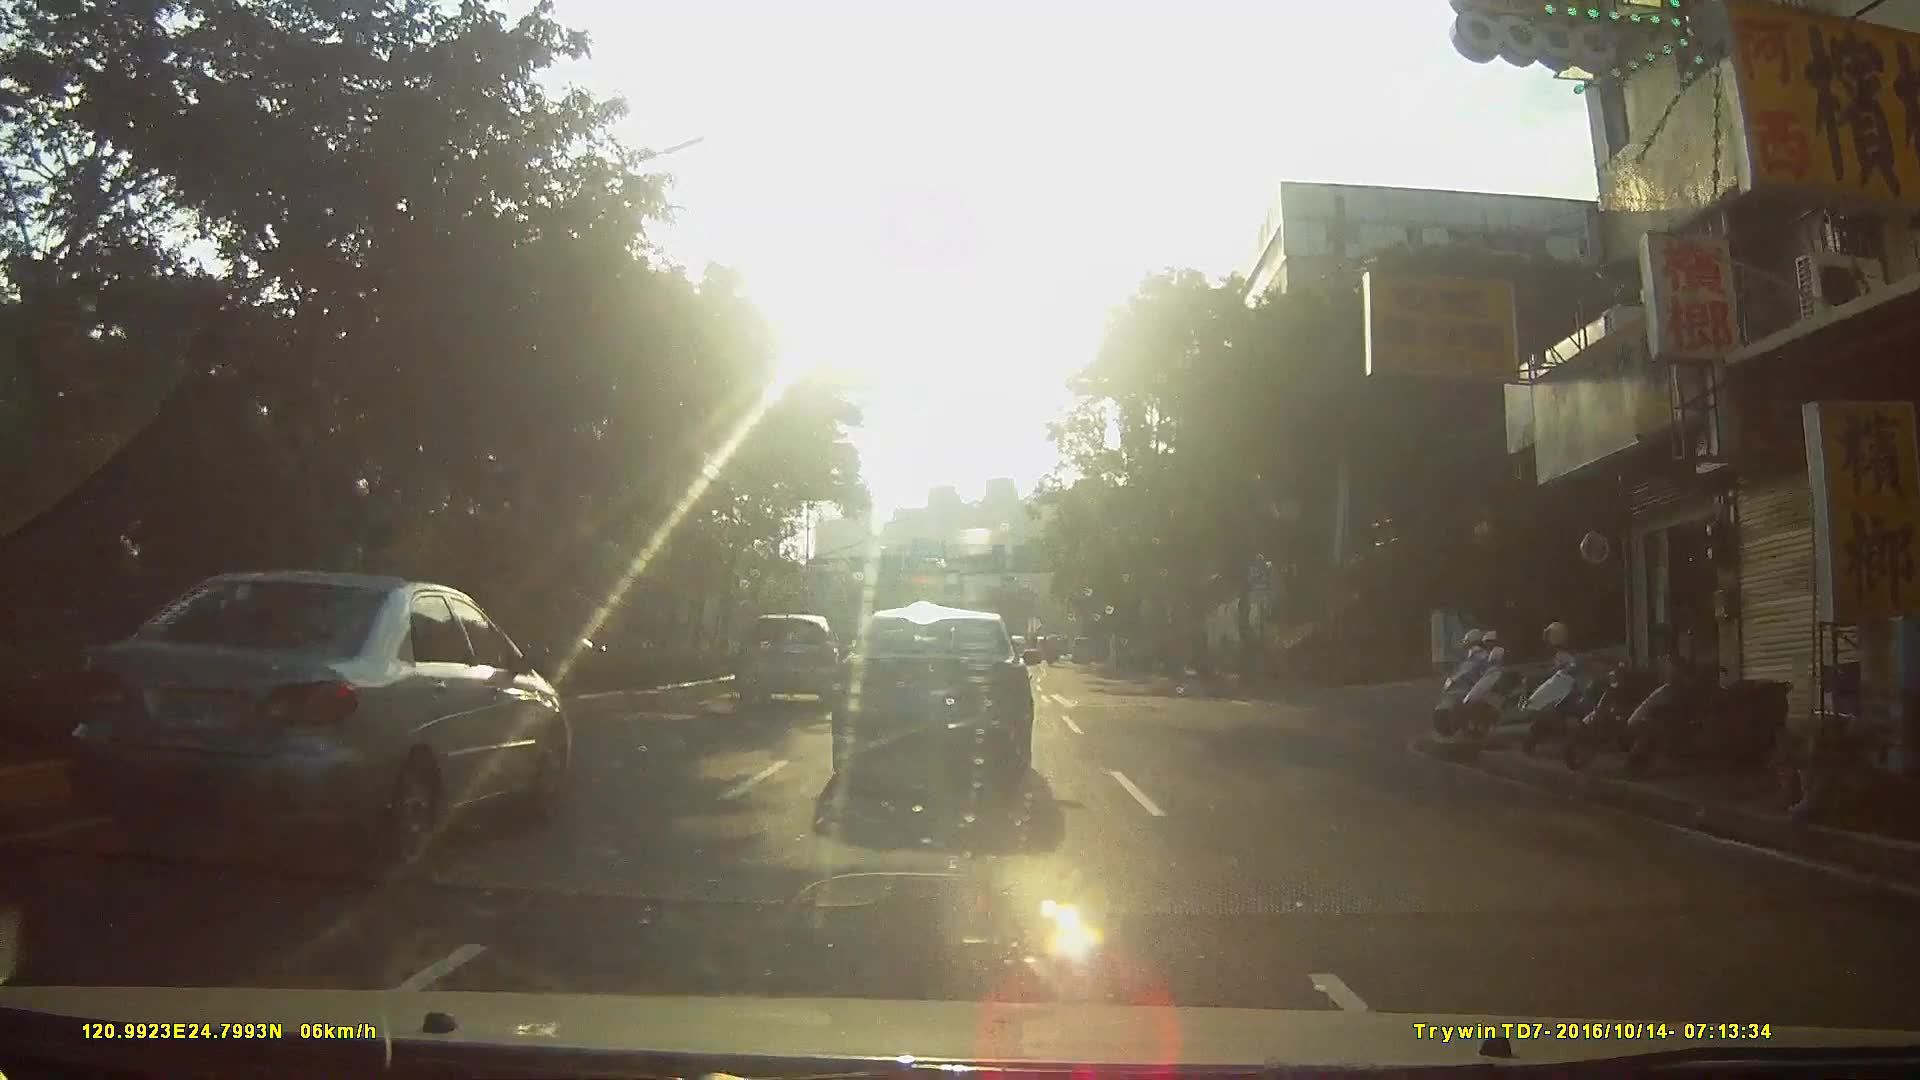vehicle: (25, 574, 575, 884), (837, 611, 1056, 800), (738, 613, 849, 705), (1069, 633, 1102, 663)
